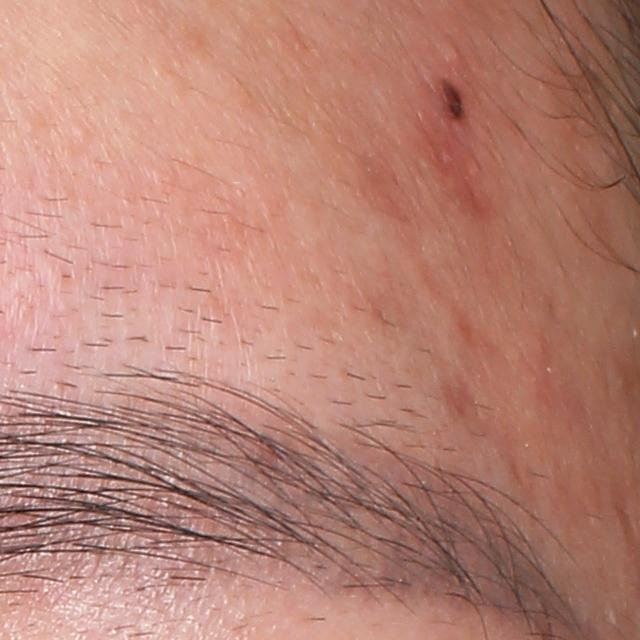nevus: (434, 71, 473, 127)
